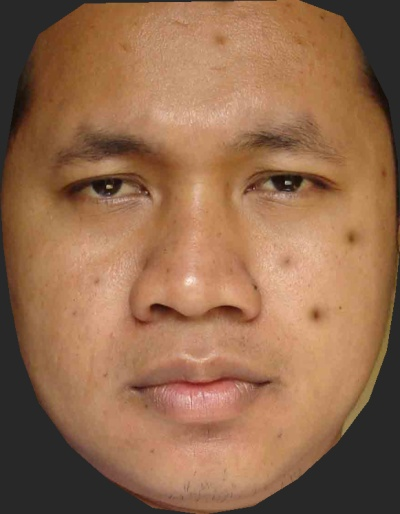jerawat: (307, 300, 327, 328), (342, 226, 363, 247), (279, 253, 297, 271), (376, 165, 392, 184), (213, 31, 227, 50), (88, 274, 102, 288)
